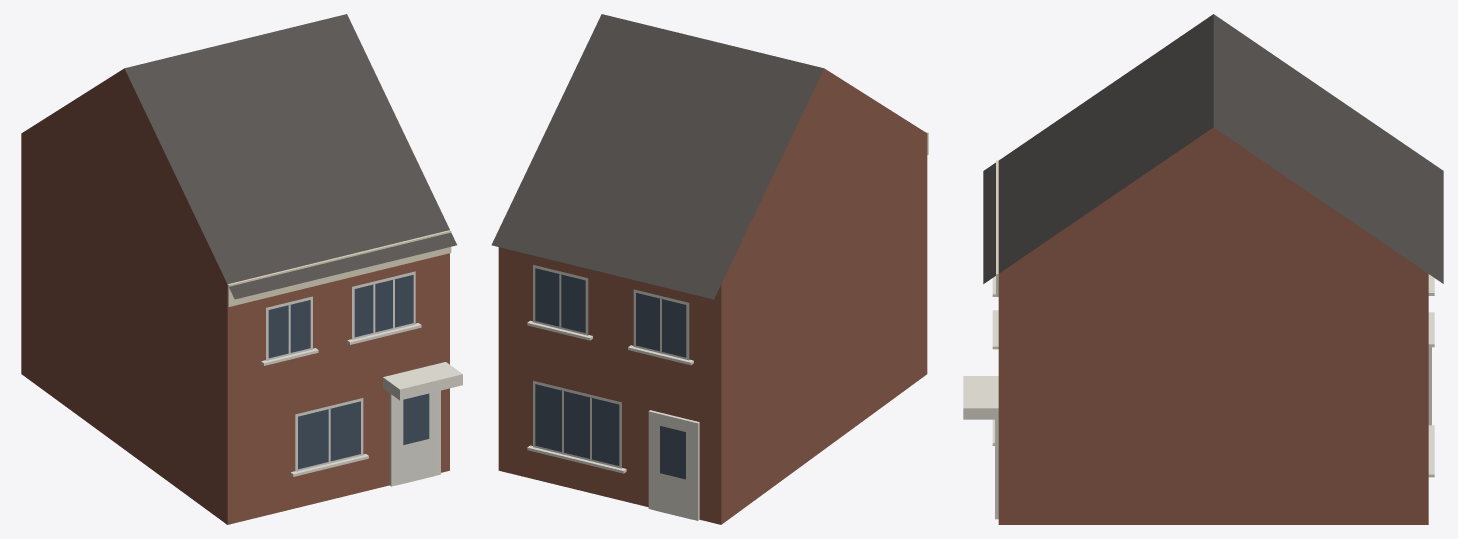
File: zo-ho-maldenhof__brick__2__gable__long__solid__mirror.glb
3 views of the same model, side by side, from view 1: azimuth 30°, elevation 25°; view 2: azimuth 150°, elevation 25°; view 3: azimuth 270°, elevation 25° (orthographic). The views are drawn at different scales.
Parts seen in each view (by area): view 1: zo-ho-maldenhof__brick__2__gable__long__solid__mirror; view 2: zo-ho-maldenhof__brick__2__gable__long__solid__mirror; view 3: zo-ho-maldenhof__brick__2__gable__long__solid__mirror.
Part boxes in pixels (left/top/right/bottom): zo-ho-maldenhof__brick__2__gable__long__solid__mirror: left=21, top=14, right=462, bottom=524; zo-ho-maldenhof__brick__2__gable__long__solid__mirror: left=491, top=14, right=928, bottom=524; zo-ho-maldenhof__brick__2__gable__long__solid__mirror: left=963, top=14, right=1443, bottom=524.
Size of the model in its own units: 5.3 by 8.67 by 9.5.
